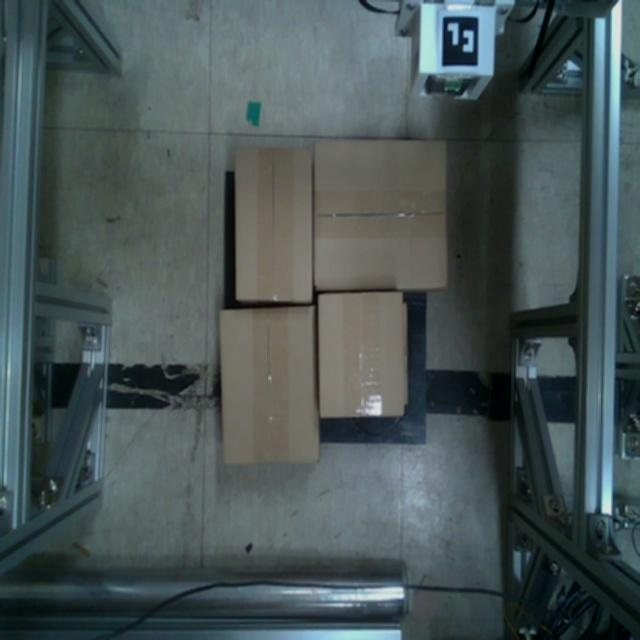box: (313, 137, 450, 291), (216, 303, 323, 467), (233, 144, 315, 303), (314, 289, 406, 419)
